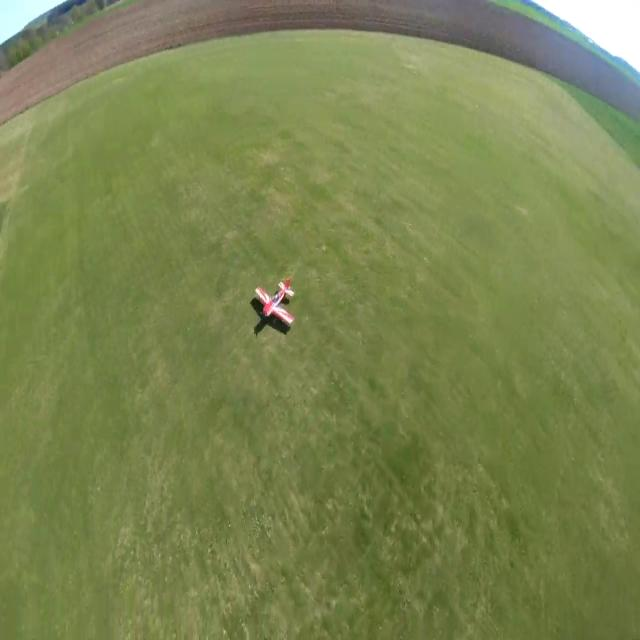iha: (254, 276, 296, 330)
